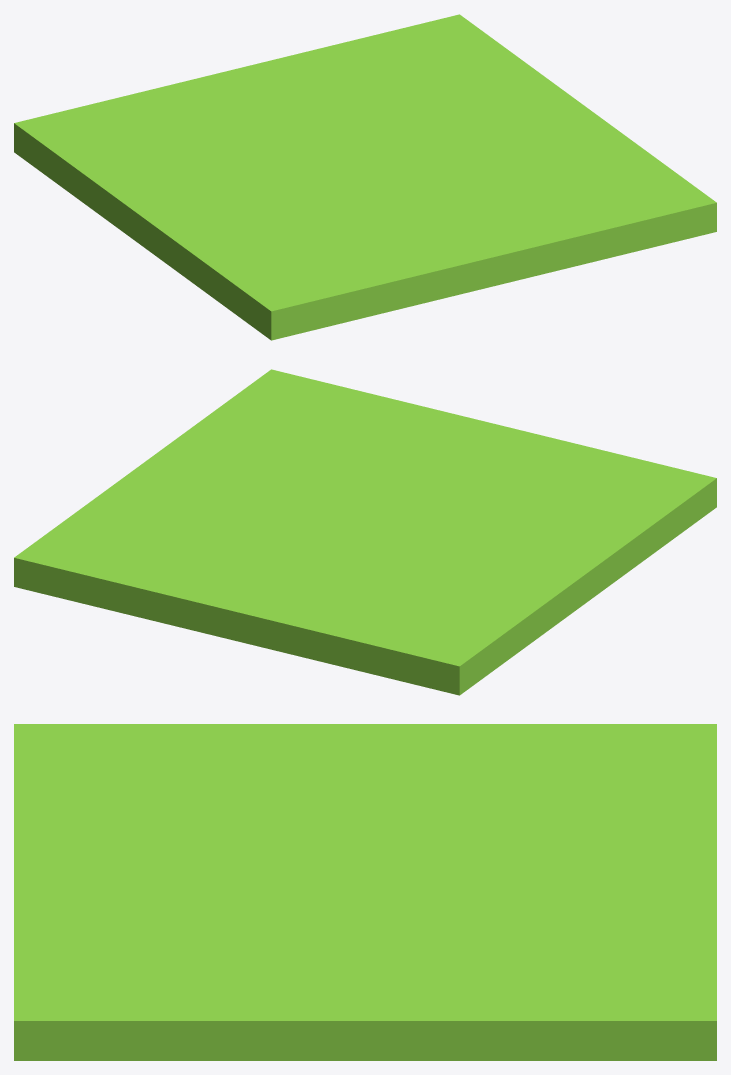
Rendered from grass.gltf.
3 views of the same model, one above another, from view 1: azimuth 30°, elevation 25°; view 2: azimuth 150°, elevation 25°; view 3: azimuth 270°, elevation 25° (orthographic). The views are drawn at different scales.
Parts seen in each view (by area): view 1: grass; view 2: grass; view 3: grass.
Part boxes in pixels (x1,y1,x2,y2): grass: (14, 14, 716, 340); grass: (14, 369, 716, 695); grass: (14, 724, 716, 1060).
Bounding box in the file's own units: 16 × 1 × 16.
Materials: 1 (1 with a texture image).
